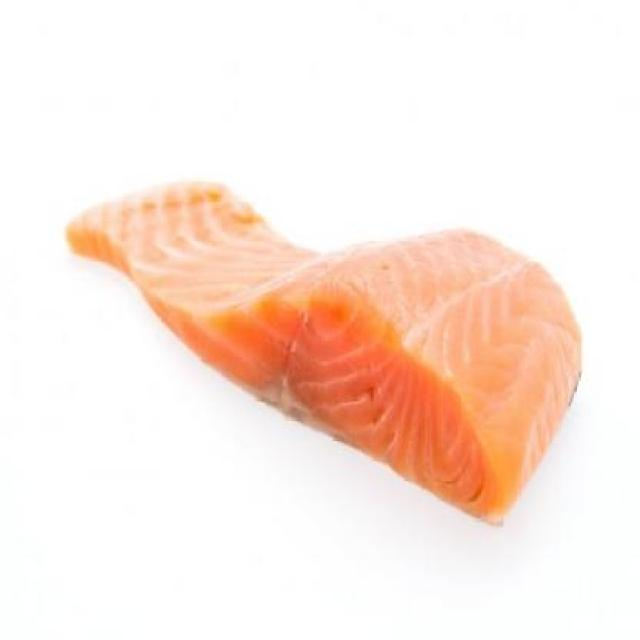salmon: (60, 158, 598, 540)
